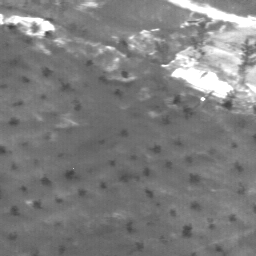aircraft: (202, 98, 204, 100)
